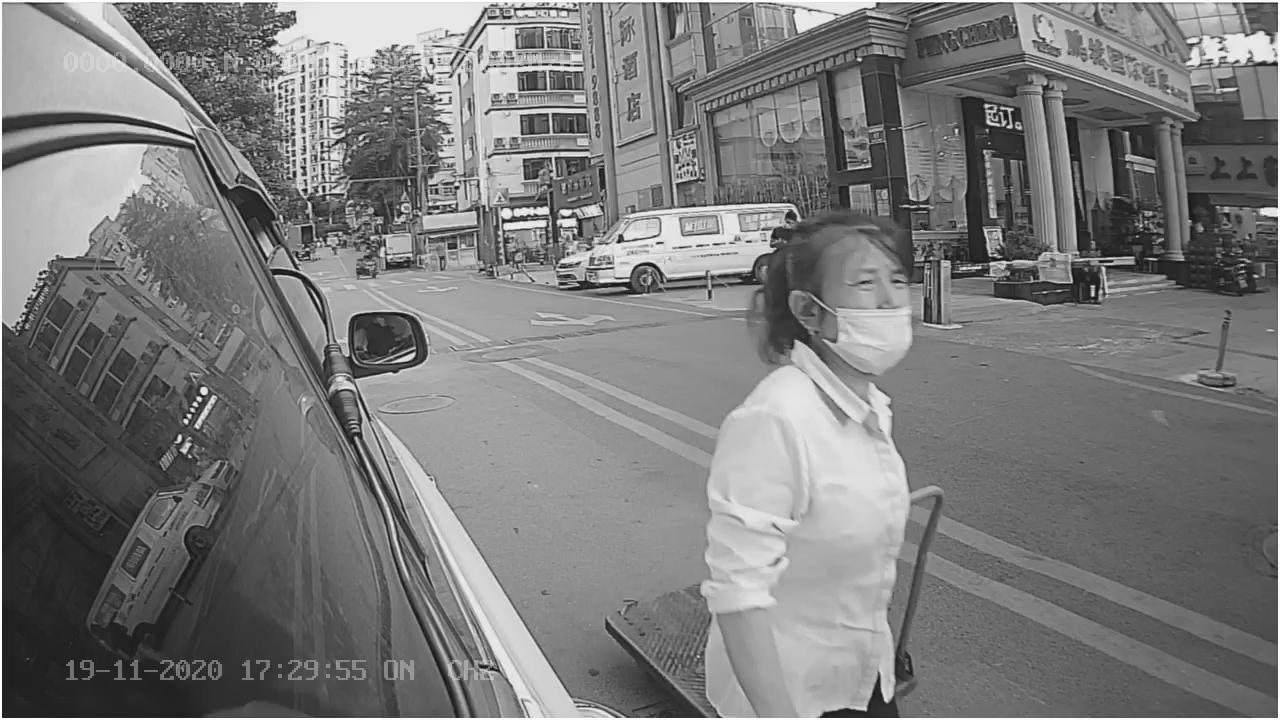person: (698, 210, 924, 705)
